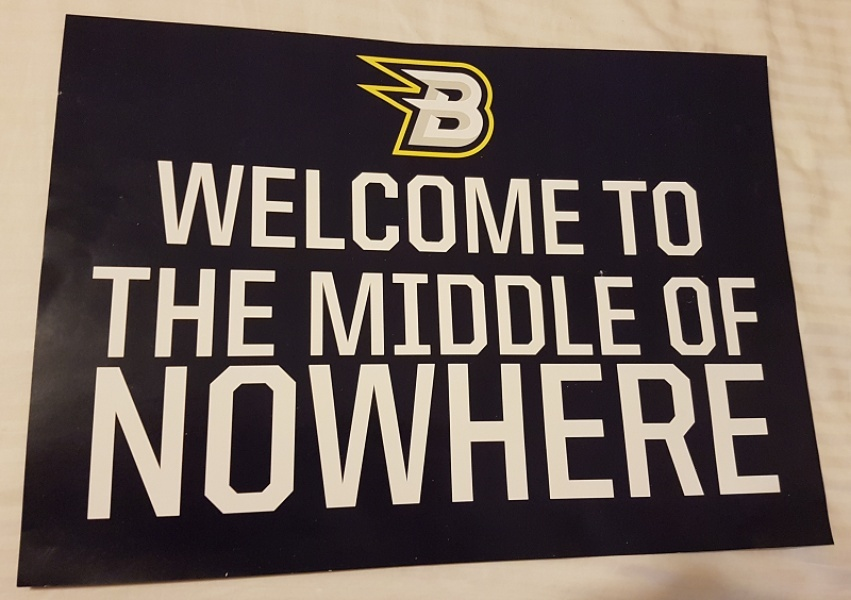text: (97, 362, 112, 522), (113, 362, 128, 522), (129, 362, 144, 522), (145, 362, 160, 522), (161, 362, 176, 522), (177, 362, 192, 522), (193, 362, 208, 522), (209, 362, 224, 522), (225, 362, 240, 522), (241, 362, 256, 522), (257, 362, 272, 522), (273, 362, 288, 522), (289, 362, 304, 522), (305, 362, 320, 522), (321, 362, 336, 522), (337, 362, 352, 522), (353, 362, 368, 522), (369, 362, 384, 522), (385, 362, 400, 522), (401, 362, 416, 522), (417, 362, 432, 522), (433, 362, 448, 522), (449, 362, 464, 522), (465, 362, 480, 522), (481, 362, 496, 522), (497, 362, 512, 522), (513, 362, 528, 522), (529, 362, 544, 522), (545, 362, 560, 522), (561, 362, 576, 522), (577, 362, 592, 522), (593, 362, 608, 522), (609, 362, 624, 522), (625, 362, 640, 522), (641, 362, 656, 522), (657, 362, 672, 522), (673, 362, 688, 522), (689, 362, 704, 522), (705, 362, 720, 522), (721, 362, 736, 522), (737, 362, 752, 522), (753, 362, 768, 522), (769, 362, 782, 522), (161, 159, 176, 259), (177, 159, 192, 259), (193, 159, 208, 259), (209, 159, 224, 259), (225, 159, 240, 259), (241, 159, 256, 259), (257, 159, 272, 259), (273, 159, 288, 259), (289, 159, 304, 259), (305, 159, 320, 259), (321, 159, 336, 259), (337, 159, 352, 259), (353, 159, 368, 259), (369, 159, 384, 259), (385, 159, 400, 259), (401, 159, 416, 259), (417, 159, 432, 259), (433, 159, 448, 259), (449, 159, 464, 259), (465, 159, 480, 259), (481, 159, 496, 259), (497, 159, 512, 259), (513, 159, 528, 259), (529, 159, 544, 259), (545, 159, 560, 259), (561, 159, 576, 259), (97, 263, 112, 358), (113, 263, 128, 358), (129, 263, 144, 358), (145, 263, 160, 358), (161, 263, 176, 358), (177, 263, 192, 358), (193, 263, 208, 358), (209, 263, 224, 358), (225, 263, 240, 358), (241, 263, 256, 358), (257, 263, 272, 358), (321, 271, 336, 358), (337, 271, 352, 358), (353, 271, 368, 358), (369, 271, 384, 358), (385, 271, 400, 358), (401, 271, 416, 358), (417, 271, 432, 358), (433, 271, 448, 358), (449, 271, 464, 358), (465, 271, 480, 358), (481, 271, 496, 358), (497, 271, 512, 358), (513, 271, 528, 358), (529, 271, 544, 358), (545, 271, 560, 358), (561, 271, 576, 358), (577, 271, 592, 358), (593, 271, 608, 358), (609, 271, 624, 358), (625, 271, 640, 358), (401, 64, 416, 151), (417, 64, 432, 151), (433, 64, 448, 151), (449, 64, 464, 151), (465, 64, 480, 151), (689, 180, 705, 258), (673, 275, 688, 357), (689, 275, 704, 357), (705, 275, 720, 357), (721, 275, 736, 357), (737, 275, 752, 357), (609, 180, 624, 258), (625, 180, 640, 258), (641, 180, 656, 258), (657, 180, 672, 258), (673, 180, 688, 258), (308, 271, 320, 358), (661, 275, 672, 357), (753, 275, 764, 357), (577, 159, 586, 259), (90, 263, 96, 358), (602, 180, 608, 258), (481, 64, 485, 151), (94, 362, 96, 522), (157, 159, 160, 259), (273, 263, 276, 358), (641, 271, 642, 358), (399, 64, 400, 151)
